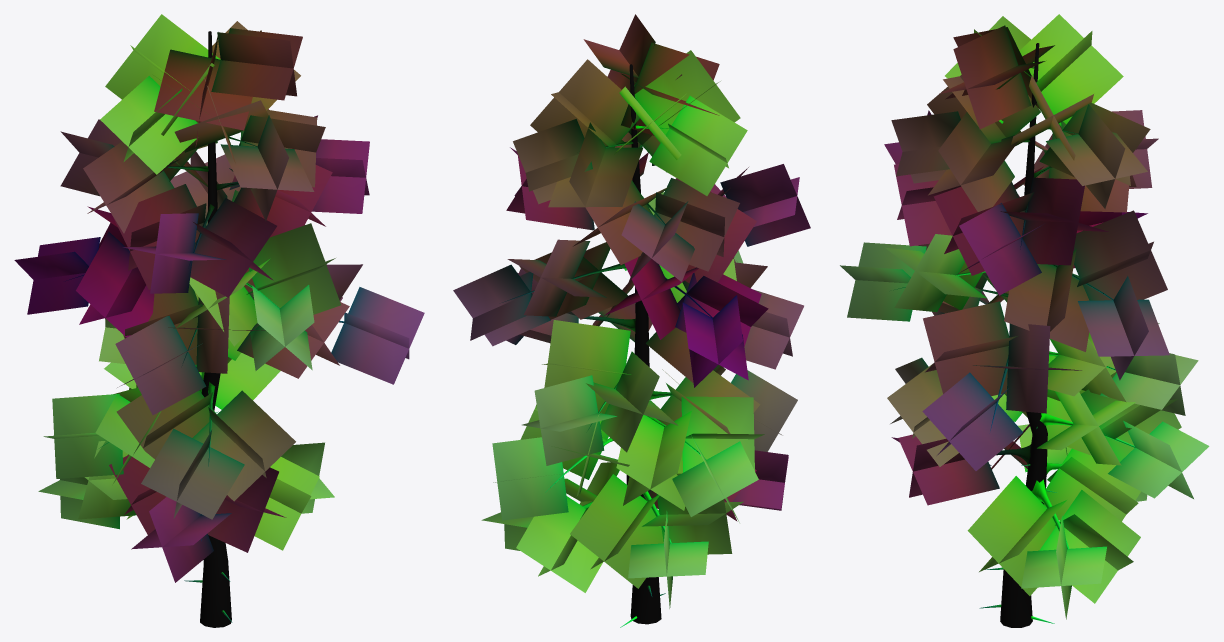
File: URP_P7_Tree_4_LOD_2.fbx
3 renders of one model, left to right at view 1: azimuth 30°, elevation 25°; view 2: azimuth 150°, elevation 25°; view 3: azimuth 270°, elevation 25°, orthographic. The views are drawn at different scales.
Parts seen in each view (by area): view 1: Tree_4_LOD_2; view 2: Tree_4_LOD_2; view 3: Tree_4_LOD_2.
Part boxes in pixels (x1,y1,x2,y2): Tree_4_LOD_2: (14, 14, 424, 627); Tree_4_LOD_2: (453, 14, 810, 627); Tree_4_LOD_2: (840, 14, 1209, 627).
Bounding box in the file's own units: 282 × 480 × 271.
